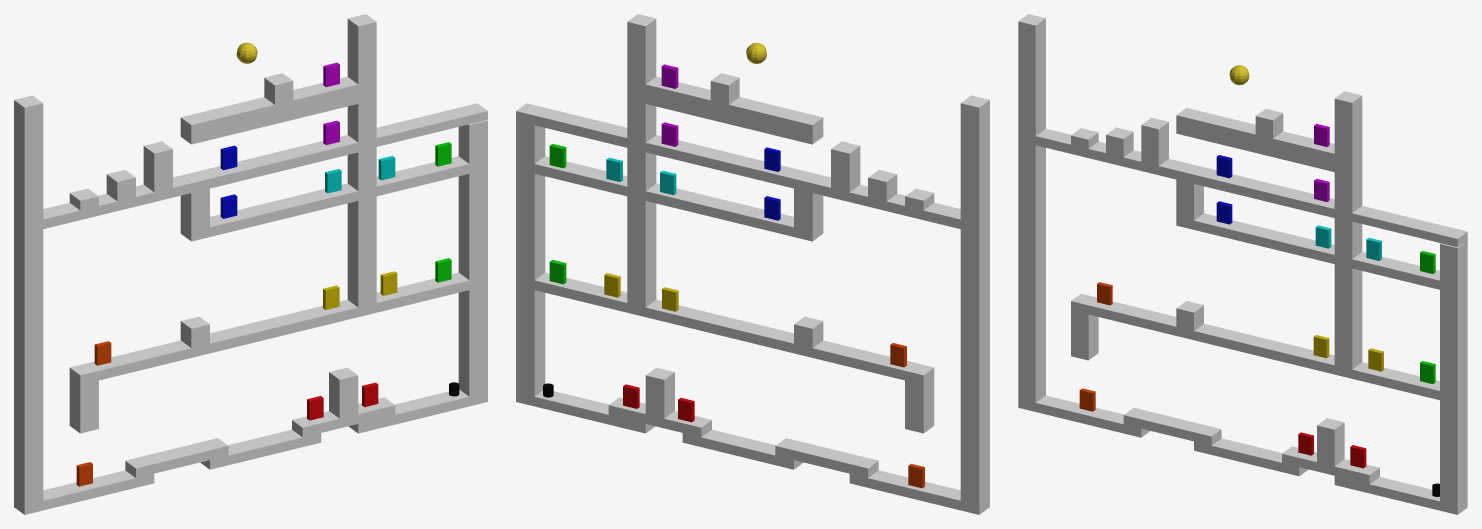
The model's file is 3C_Map.fbx.
3 renders of one model, left to right at view 1: azimuth 30°, elevation 25°; view 2: azimuth 150°, elevation 25°; view 3: azimuth 330°, elevation 25°, orthographic. The views are drawn at different scales.
Visible parts, largest first — view 1: Cube.015; view 2: Cube.015; view 3: Cube.015.
Boxes of the visible parts, x1=… form: Cube.015: x1=14, y1=14, x2=487, y2=514; Cube.015: x1=516, y1=14, x2=989, y2=514; Cube.015: x1=1018, y1=14, x2=1467, y2=514.
Size of the model in its own units: 5000 by 202 by 4247.
